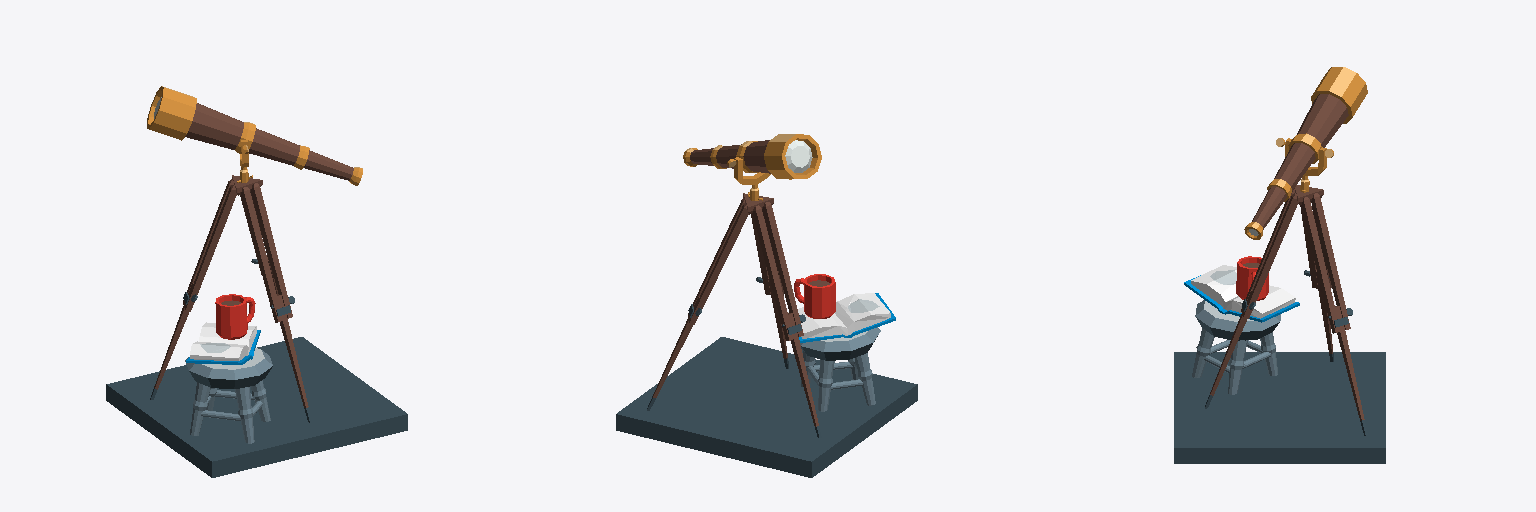
3 renders of one model, left to right at view 1: azimuth 30°, elevation 25°; view 2: azimuth 150°, elevation 25°; view 3: azimuth 270°, elevation 25°, orthographic.
Visible parts, largest first — view 1: group[number redacted], group[number redacted], group[number redacted]; view 2: group[number redacted], group[number redacted], group[number redacted]; view 3: group[number redacted], group[number redacted], group[number redacted].
Boxes of the visible parts, box(x1,y1,x2,y2) form: group[number redacted]: box(106, 337, 407, 477); group[number redacted]: box(147, 86, 362, 422); group[number redacted]: box(185, 294, 272, 443); group[number redacted]: box(616, 337, 917, 477); group[number redacted]: box(647, 134, 821, 437); group[number redacted]: box(788, 274, 895, 411); group[number redacted]: box(1174, 352, 1385, 463); group[number redacted]: box(1205, 67, 1367, 435); group[number redacted]: box(1184, 256, 1299, 394).
Bounding box in the file's own units: 1.26 × 1.94 × 1.16.